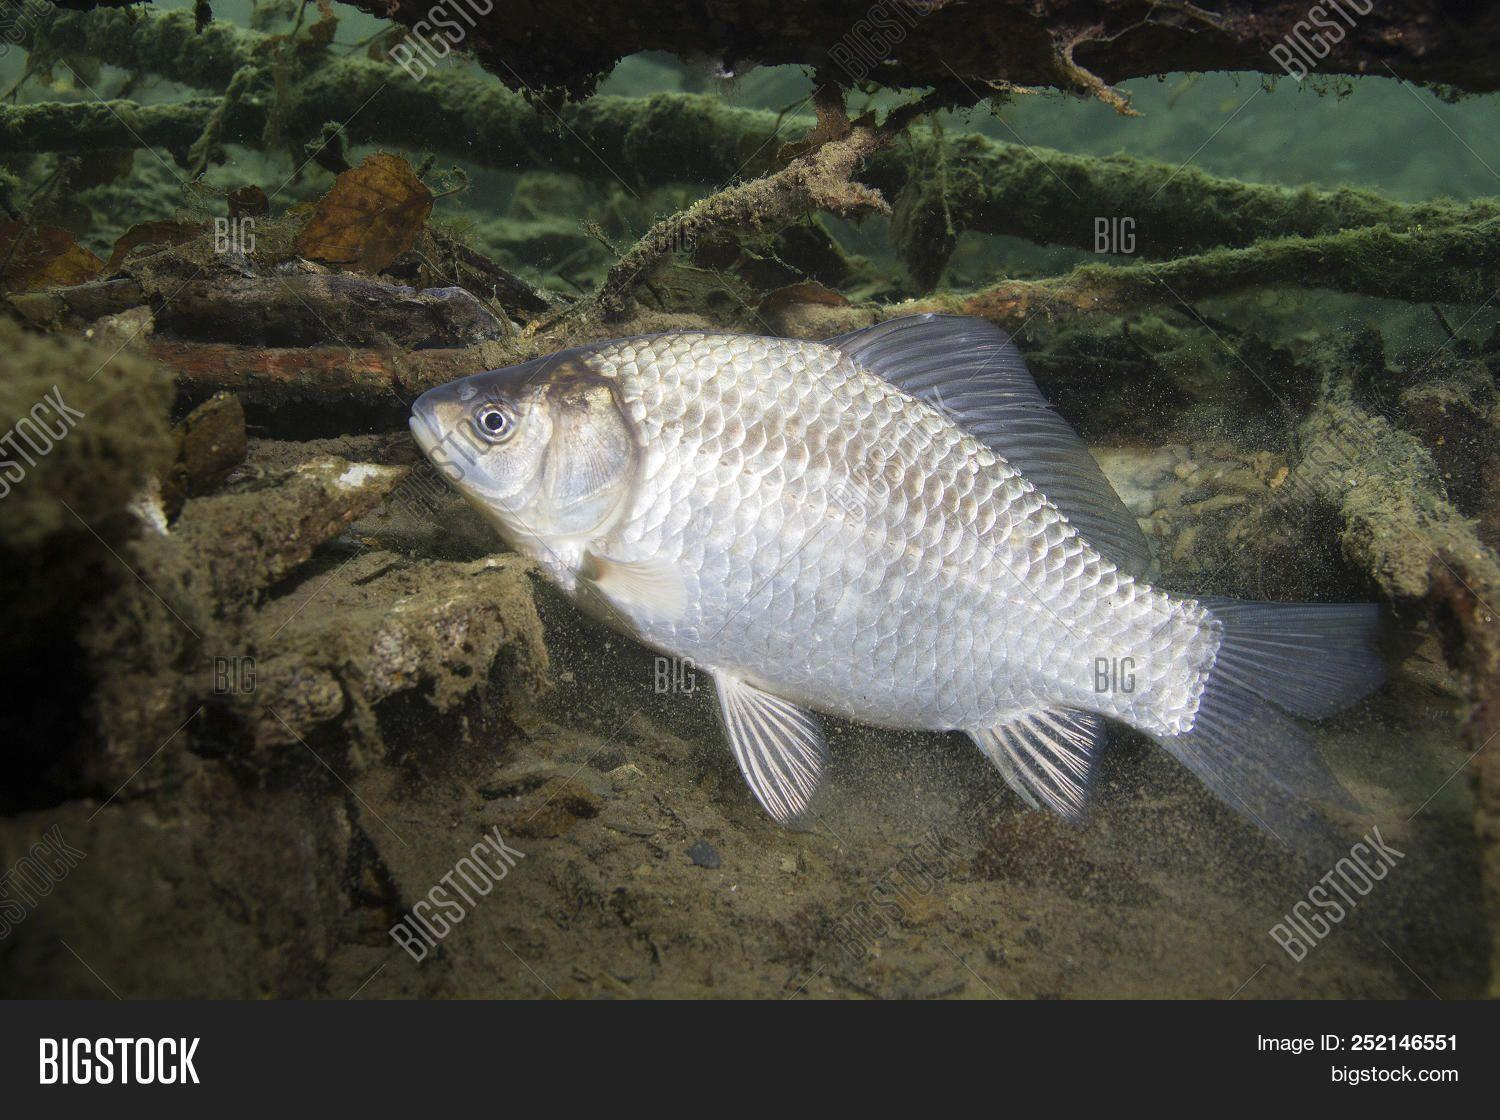Grass Carp: (408, 304, 1407, 904)
